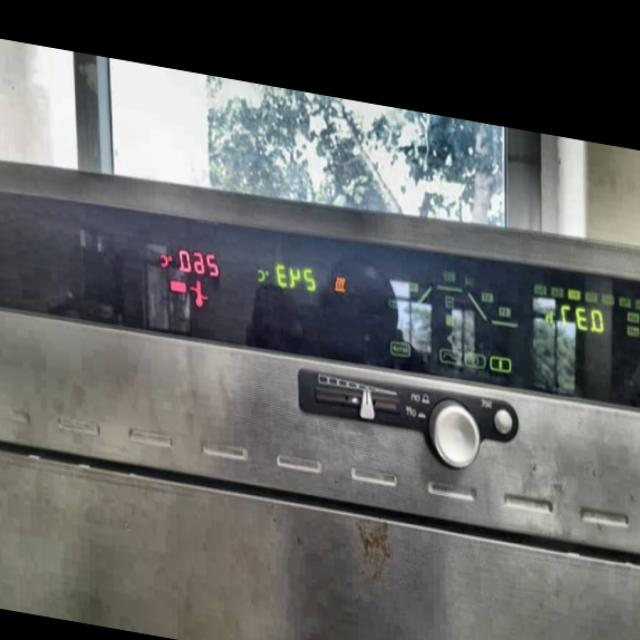Incubator: (0, 116, 640, 640)
